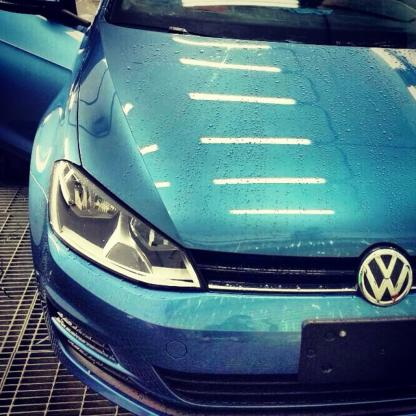Car: (17, 22, 412, 415)
